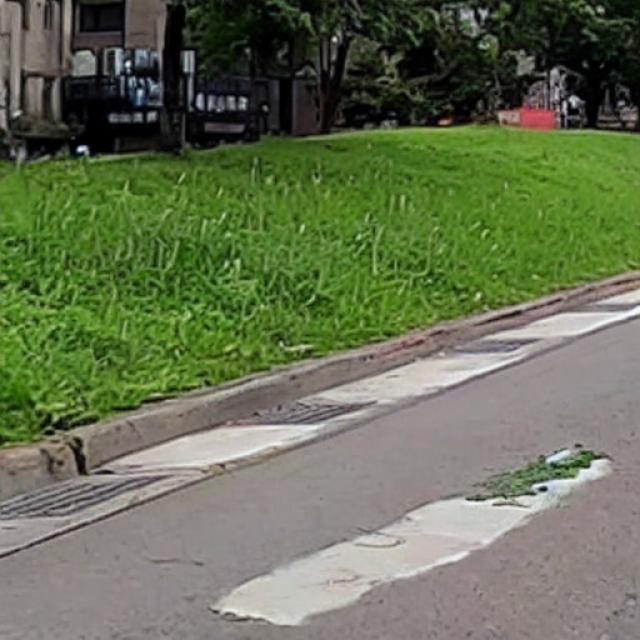puddle: (216, 448, 609, 629)
